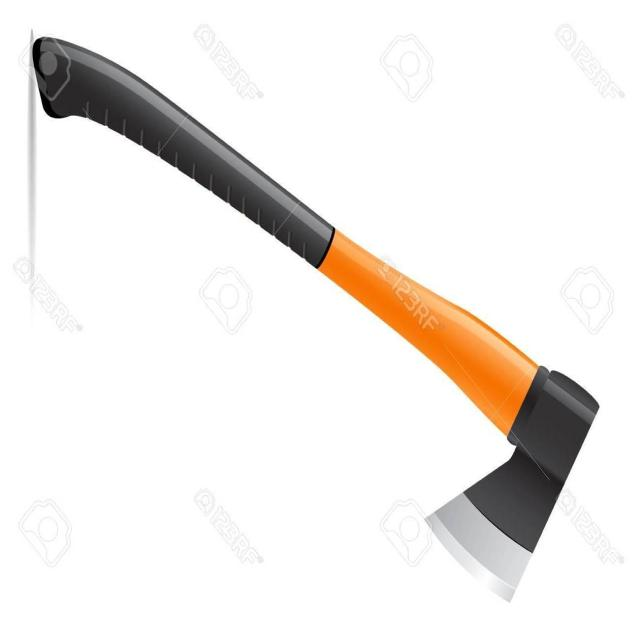Kapak: (37, 22, 428, 546)
